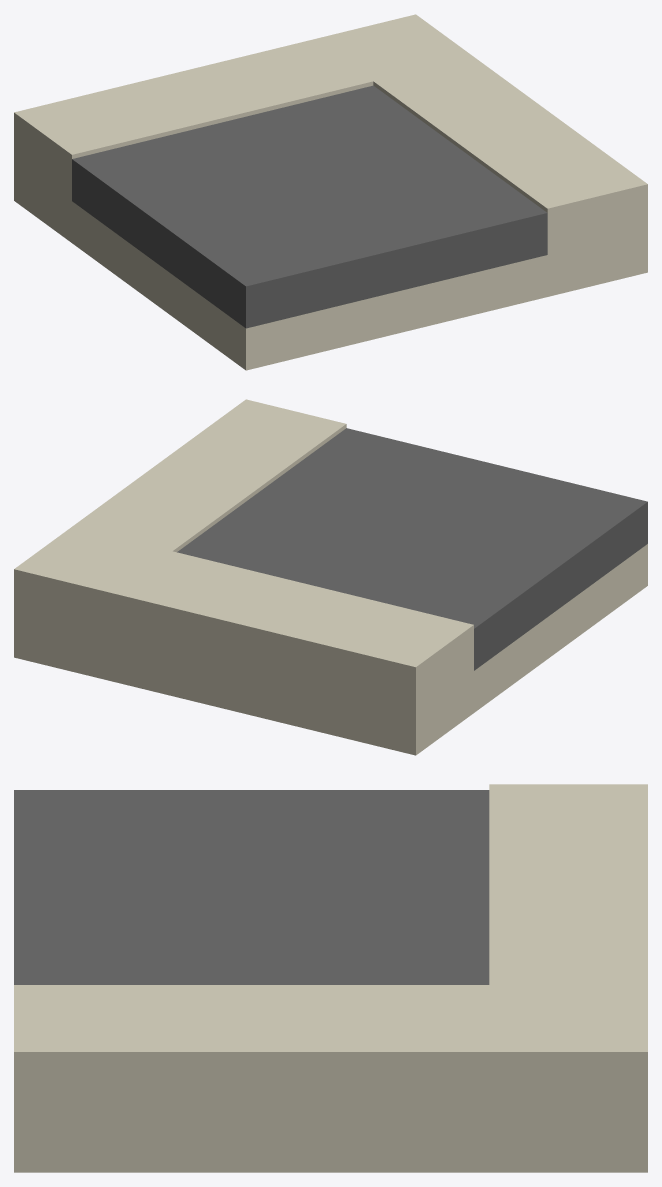
File: tile006.fbx
The picture shows the model from 3 angles, top to bottom: view 1: azimuth 30°, elevation 25°; view 2: azimuth 150°, elevation 25°; view 3: azimuth 270°, elevation 25°; orthographic projection. The views are drawn at different scales.
Parts seen in each view (by area): view 1: tile006; view 2: tile006; view 3: tile006.
Boxes of the visible parts, <box> form: tile006: <box>14,14,647,370</box>; tile006: <box>14,399,647,755</box>; tile006: <box>14,784,647,1172</box>.
Bounding box in the file's own units: 10 × 2.1 × 10.
